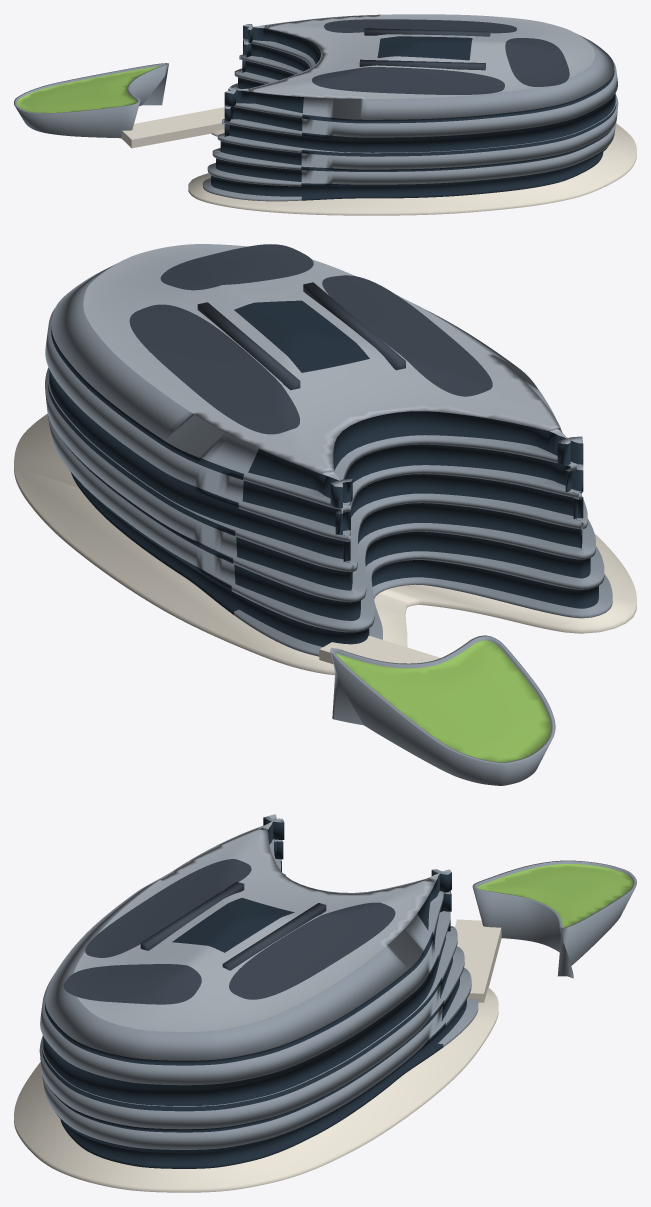
The model's file is science-museum.glb.
3 views of the same model, one above another, from view 1: azimuth 30°, elevation 25°; view 2: azimuth 150°, elevation 25°; view 3: azimuth 270°, elevation 25° (orthographic). The views are drawn at different scales.
Visible parts, largest first — view 1: science-museum-main, science-museum-plinth, science-museum-annex, science-museum-link; view 2: science-museum-main, science-museum-annex, science-museum-plinth, science-museum-link; view 3: science-museum-main, science-museum-plinth, science-museum-annex, science-museum-link.
Part boxes in pixels (box(x1,y1,x2,y2)): science-museum-main: box(202, 14, 618, 201); science-museum-plinth: box(188, 123, 636, 215); science-museum-annex: box(14, 63, 168, 138); science-museum-link: box(121, 107, 224, 148); science-museum-main: box(45, 244, 612, 656); science-museum-annex: box(330, 635, 555, 785); science-museum-plinth: box(14, 414, 636, 675); science-museum-link: box(319, 635, 440, 663); science-museum-main: box(39, 814, 478, 1168); science-museum-plinth: box(14, 987, 498, 1192); science-museum-annex: box(472, 860, 636, 978); science-museum-link: box(455, 919, 501, 1002).
Bounding box in the file's own units: 248 × 59.42 × 215.
